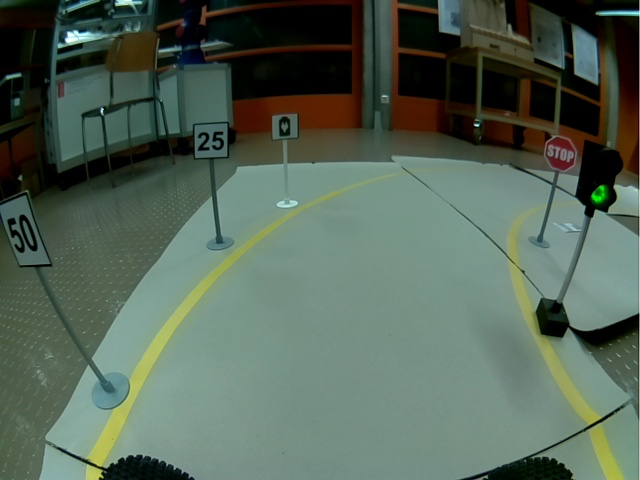battery: (271, 112, 299, 140)
speed25: (193, 121, 230, 159)
speed50: (1, 188, 53, 268)
stop: (544, 136, 577, 172)
trafficLightGreen: (575, 139, 624, 212)
